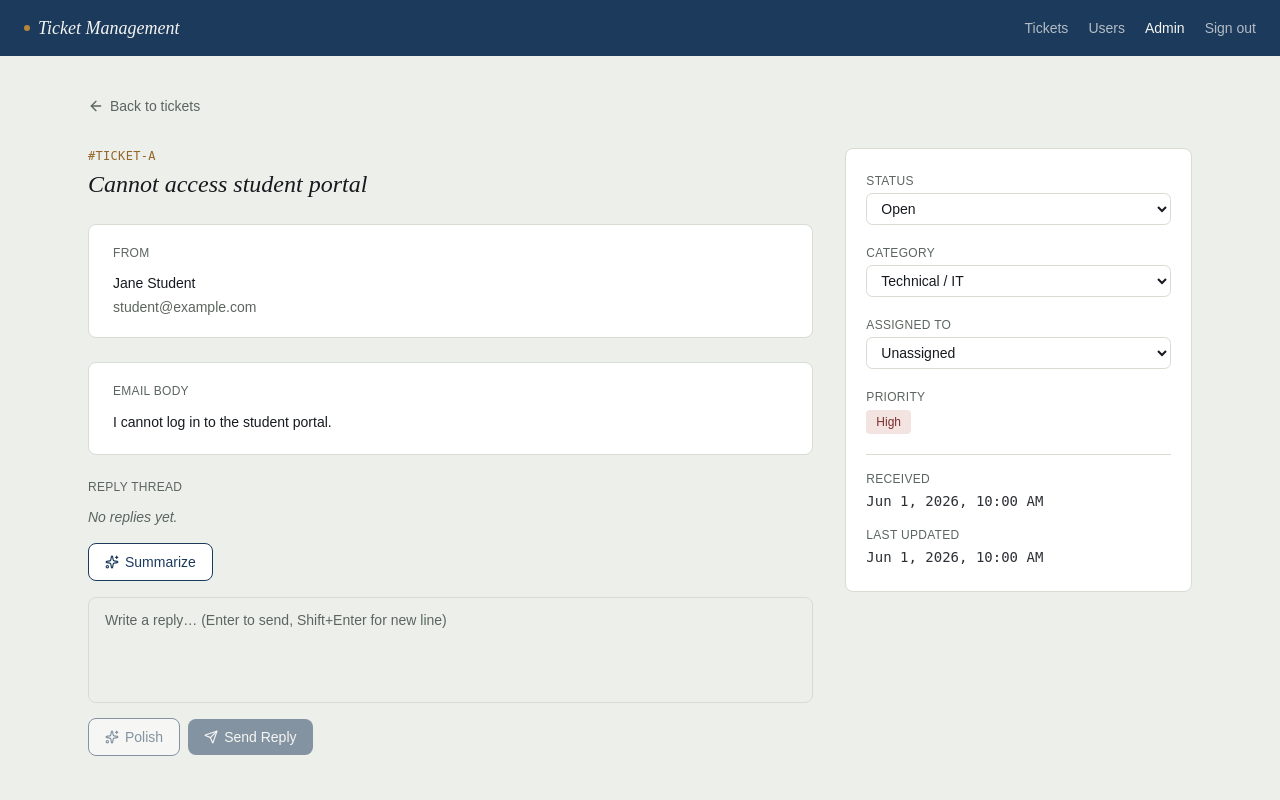
Test: TicketDetailPage › assign dropdown › disables the assign dropdown while the assign mutation is in flight
Expected: the heading "Cannot access student portal" is shown, [88,171,367,197]
Select "Alice Agent" in the dropdown named "Assigned to" at (1019, 353), box [866,337,1171,369]
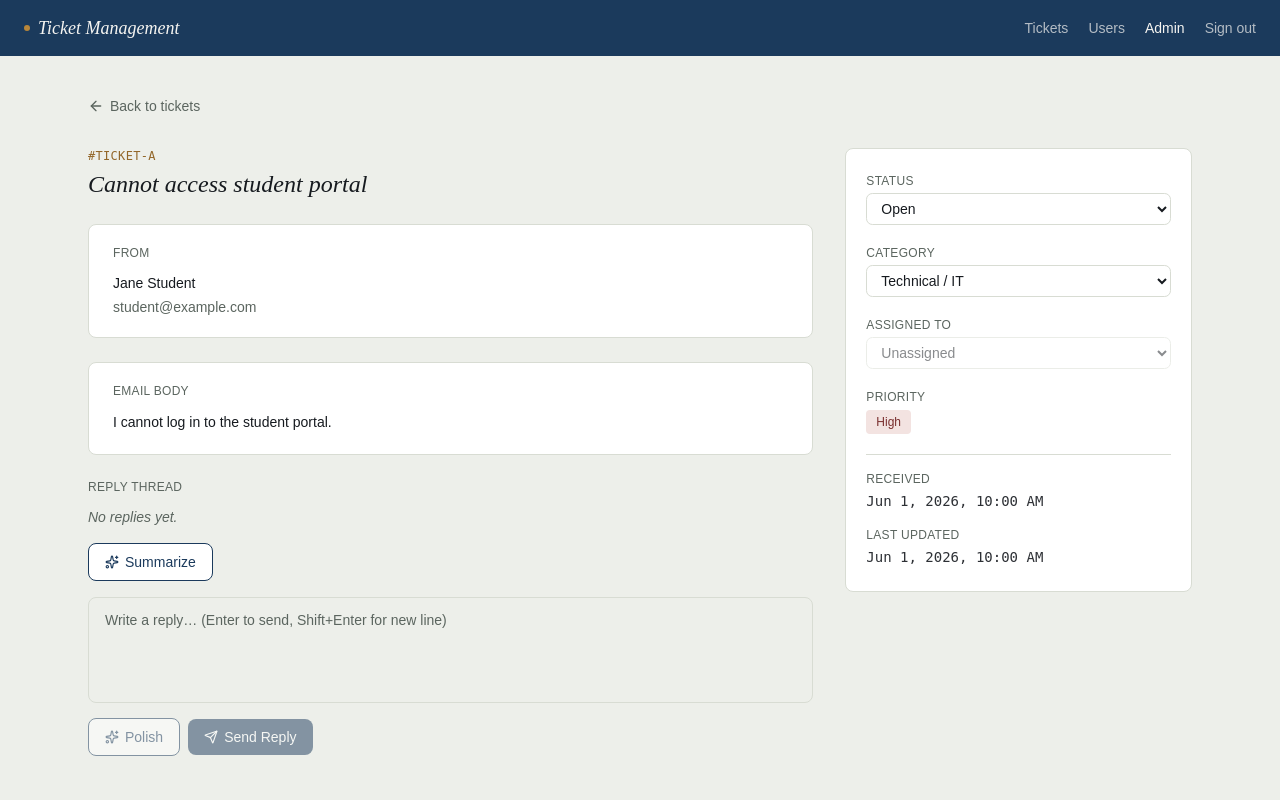
Result: the dropdown named "Assigned to" is disabled at [866,337,1171,369]
